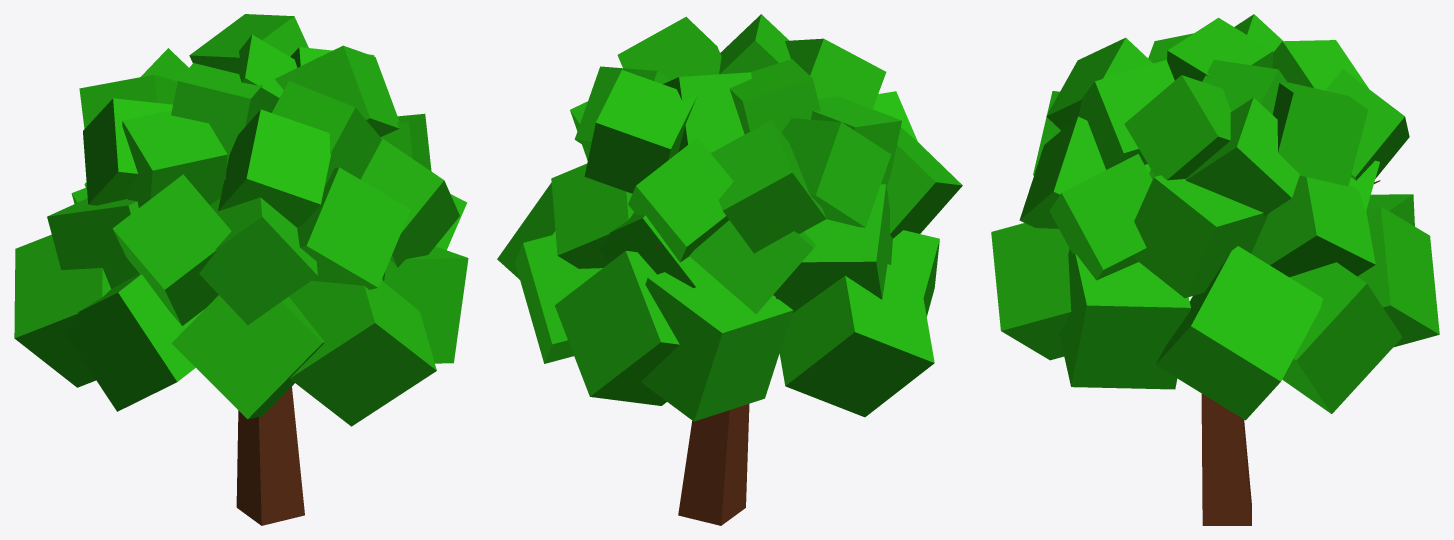
The model's file is leaves.fbx.
3 renders of one model, left to right at view 1: azimuth 30°, elevation 25°; view 2: azimuth 150°, elevation 25°; view 3: azimuth 270°, elevation 25°, orthographic.
Visible parts, largest first — view 1: Cube.019; view 2: Cube.019; view 3: Cube.019.
Part boxes in pixels (x1,y1,x2,y2): Cube.019: [14, 14, 468, 525]; Cube.019: [497, 14, 962, 525]; Cube.019: [991, 14, 1439, 525].
Size of the model in its own units: 921 by 962 by 843.
